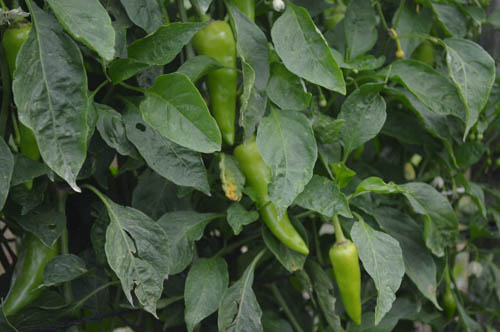ChiliPepper: (238, 143, 307, 258), (195, 23, 236, 141), (328, 244, 364, 324)
